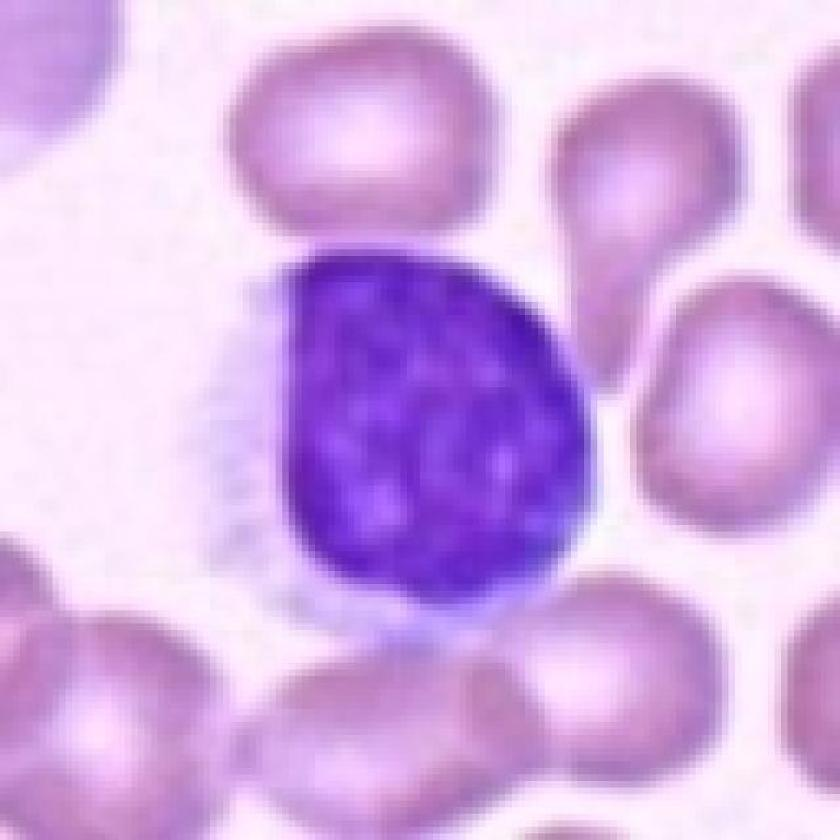lymphocyte: (184, 241, 608, 655)
